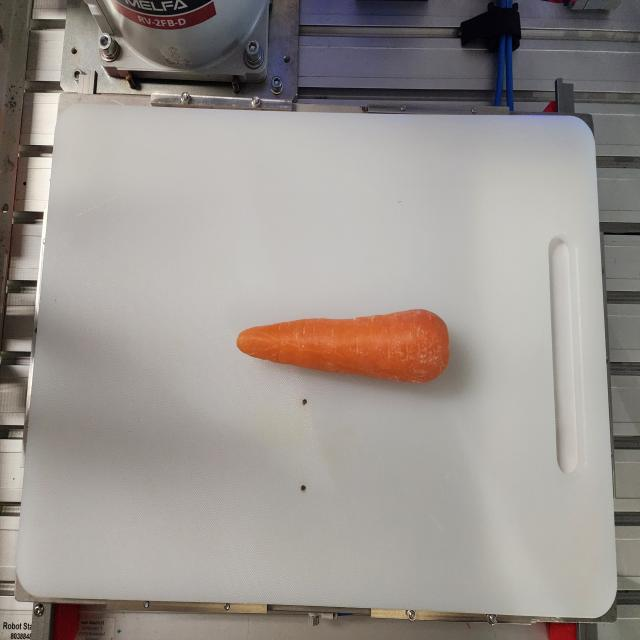carrot: (236, 308, 450, 384)
